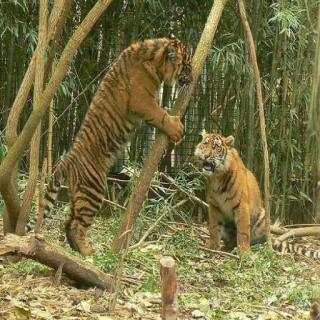Tiger: (34, 27, 202, 259), (194, 119, 276, 265)
